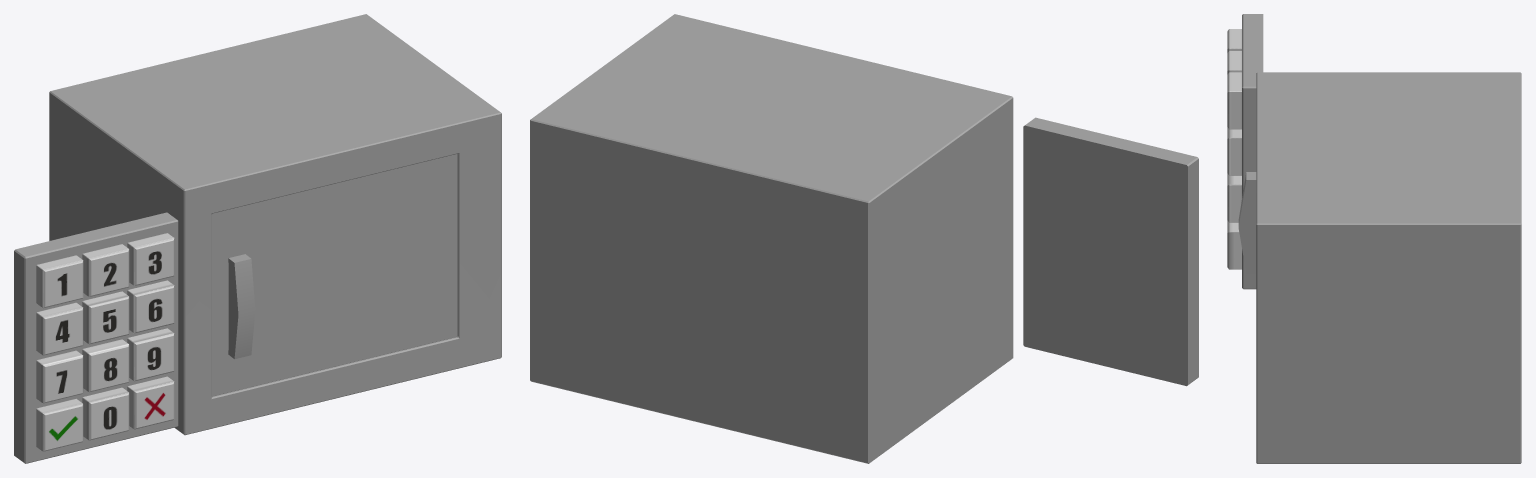
File: Safe_greybox_V2.fbx
3 renders of one model, left to right at view 1: azimuth 30°, elevation 25°; view 2: azimuth 150°, elevation 25°; view 3: azimuth 270°, elevation 25°, orthographic. The views are drawn at different scales.
Parts seen in each view (by area): view 1: safe_box1, pCylinder26, polySurface17, polySurface21, polySurface27, polySurface26, polySurface30, polySurface31, polySurface25, polySurface28, polySurface22, polySurface24 (+3 smaller); view 2: safe_box1, polySurface17; view 3: safe_box1, polySurface17, pCylinder26, polySurface23, polySurface24, polySurface29, polySurface32, polySurface21, polySurface22.
Boxes of the visible parts, x1,y1,x2,y2 form: safe_box1: (49, 14, 501, 435); pCylinder26: (211, 154, 457, 396); polySurface17: (14, 212, 178, 463); polySurface21: (36, 255, 83, 308); polySurface27: (36, 350, 83, 403); polySurface26: (36, 302, 83, 355); polySurface30: (36, 398, 83, 451); polySurface31: (82, 387, 129, 440); polySurface25: (82, 291, 129, 344); polySurface28: (82, 339, 129, 392); polySurface22: (82, 244, 129, 296); polySurface24: (127, 280, 174, 333); safe_box1: (530, 14, 1013, 463); polySurface17: (1023, 117, 1198, 386); safe_box1: (1256, 72, 1521, 463); polySurface17: (1242, 14, 1263, 289); pCylinder26: (1238, 172, 1256, 274); polySurface23: (1227, 72, 1241, 129); polySurface24: (1227, 127, 1241, 175); polySurface29: (1227, 173, 1241, 222); polySurface32: (1227, 220, 1241, 269); polySurface21: (1227, 29, 1241, 52); polySurface22: (1227, 51, 1241, 74).
Bounding box in the file's own units: 61.45 × 29.78 × 33.
